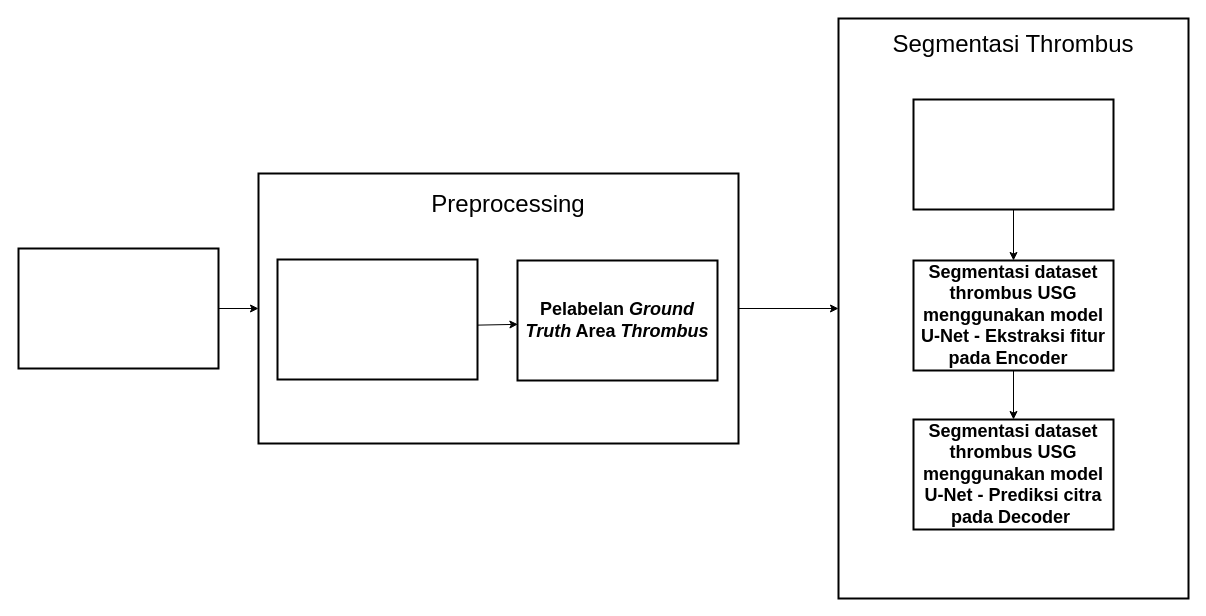
Image size: 1206x616. Some labels were removed from this diagram. Here are the shapes that lost their labels. From the top down, the centre of each, then its label:
At [1013,154]: "Training dataset thrombus USG menggunakan model U-Net".
At [118,308]: "Akuisisi Data 2D Citra USG Thrombus".
At [377,319]: "Mengurangi Noise".
